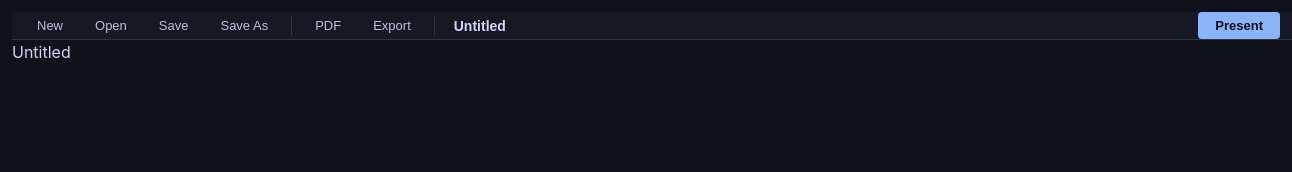
it: EditorToolbar › reverts title on blur if empty
The image size is (1292, 172).
Step 1. Clear the field with class "title-input" → (552, 26), box [445,12,659,38]
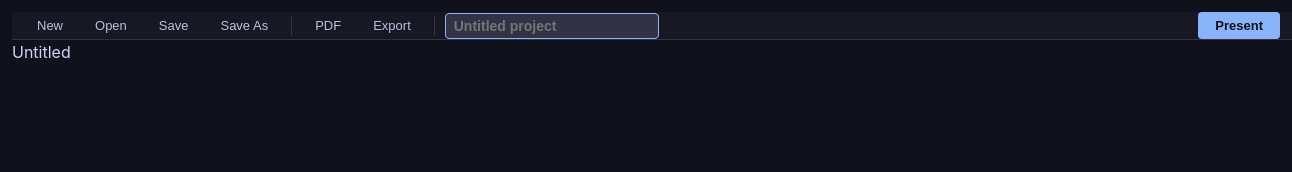
Step 2. Press Tab
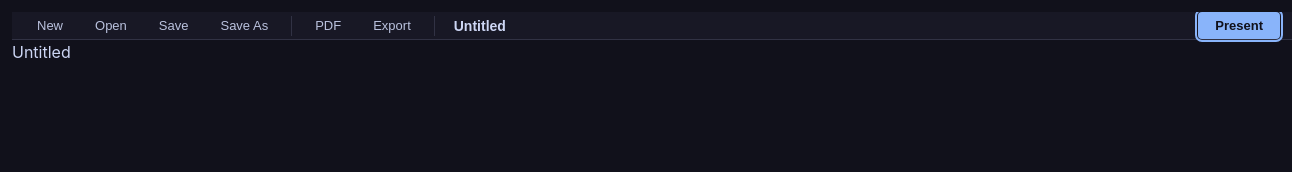
Now the field with class "title-input" holds "Untitled", box [445,12,659,38]
